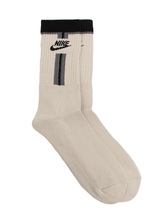sock: (29, 18, 143, 204)
